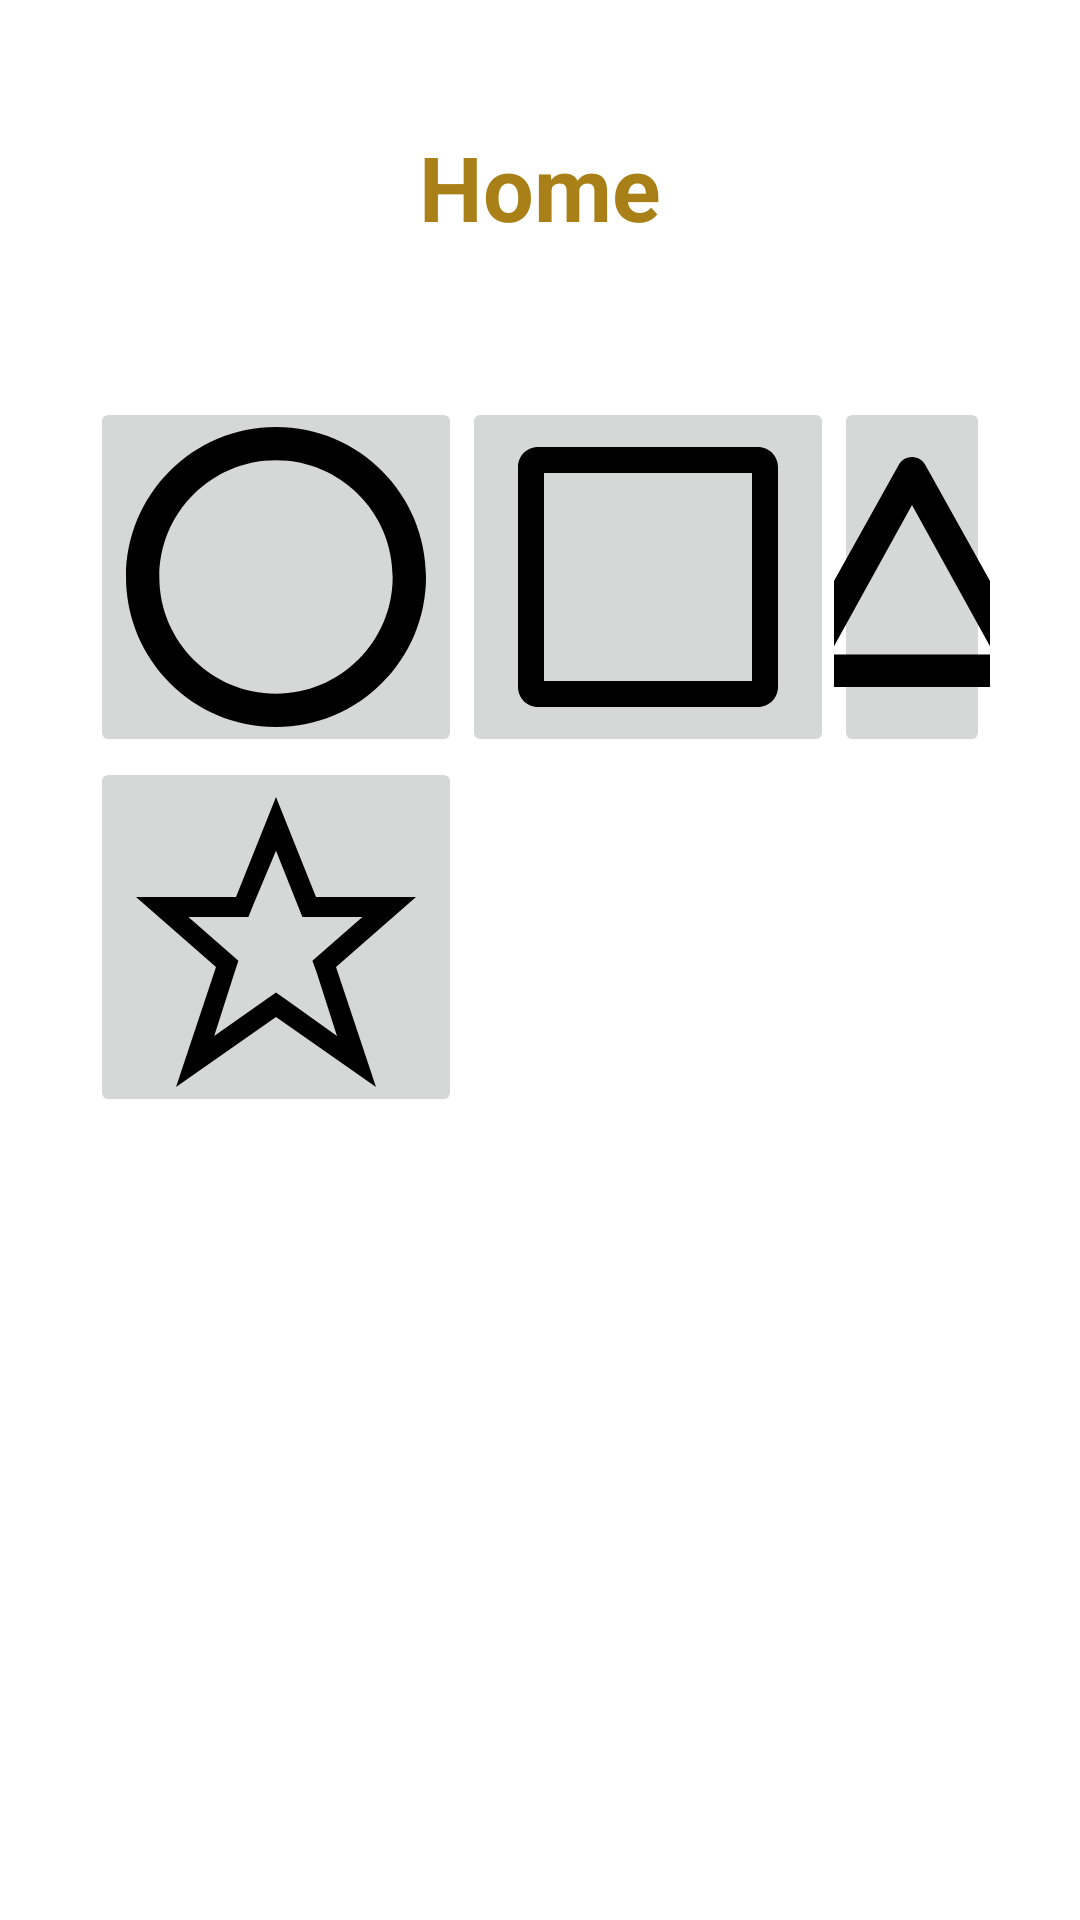

Point at icon controls on the screen. Image size 1080px x 1920px, points as (x=x, y=y).
circle: (x=276, y=577)
square: (x=648, y=577)
star: (x=276, y=937)
triangle: (x=912, y=577)
